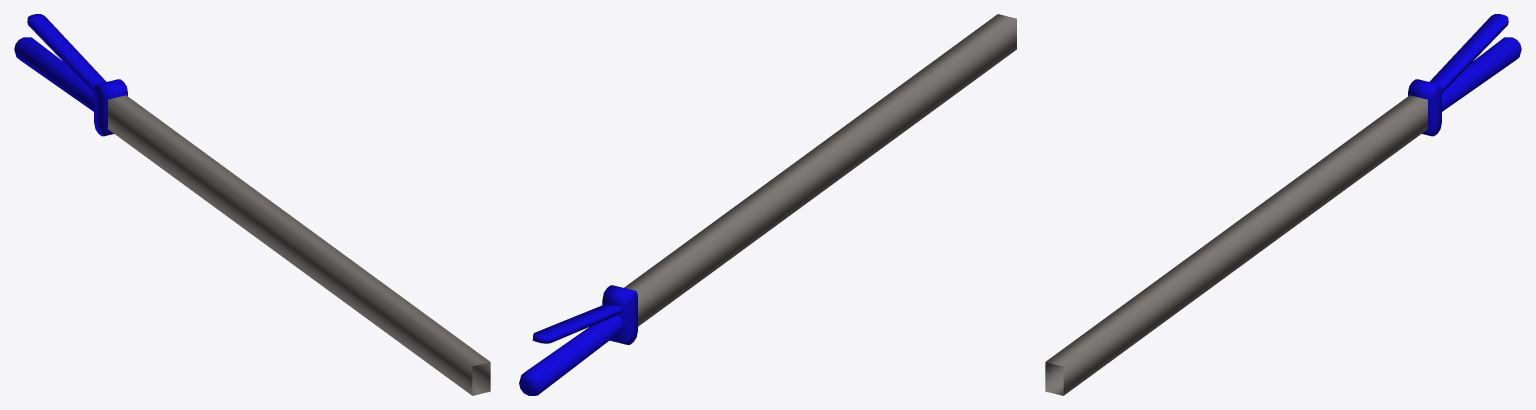
Rendered from SteamLocomotive_01_Lever.fbx.
The picture shows the model from 3 angles, left to right: view 1: azimuth 30°, elevation 25°; view 2: azimuth 150°, elevation 25°; view 3: azimuth 330°, elevation 25°; orthographic projection. The views are drawn at different scales.
Visible parts, largest first — view 1: SteamLocomotive_01_Lever; view 2: SteamLocomotive_01_Lever; view 3: SteamLocomotive_01_Lever.
Boxes of the visible parts, x1,y1,x2,y2 form: SteamLocomotive_01_Lever: (14, 14, 490, 395); SteamLocomotive_01_Lever: (519, 14, 1016, 395); SteamLocomotive_01_Lever: (1045, 14, 1521, 395).
Size of the model in its own units: 0.0431 by 0.1115 by 1.52.
